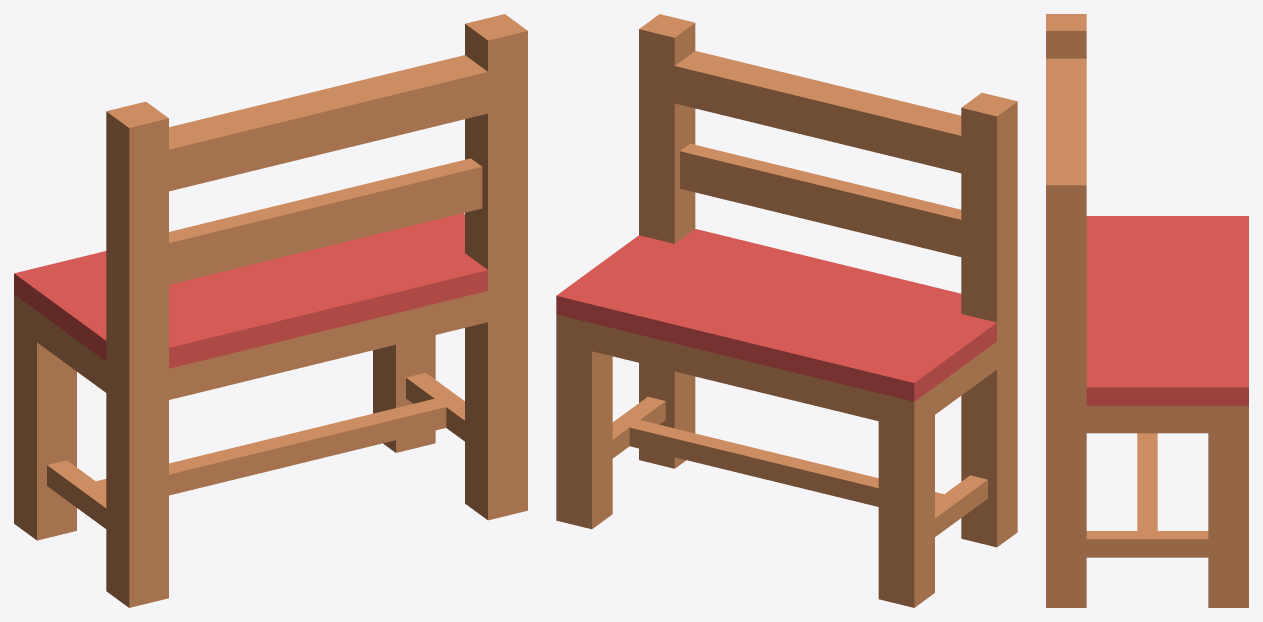
Rendered from benchCushion.fbx.
3 views of the same model, side by side, from view 1: azimuth 30°, elevation 25°; view 2: azimuth 150°, elevation 25°; view 3: azimuth 270°, elevation 25° (orthographic). The views are drawn at different scales.
Parts seen in each view (by area): view 1: benchCushion; view 2: benchCushion; view 3: benchCushion.
Part boxes in pixels (<box>): benchCushion: <box>14,14,527,607</box>; benchCushion: <box>556,14,1017,607</box>; benchCushion: <box>1046,14,1248,607</box>.
Size of the model in its own units: 4 by 4.6 by 2.
